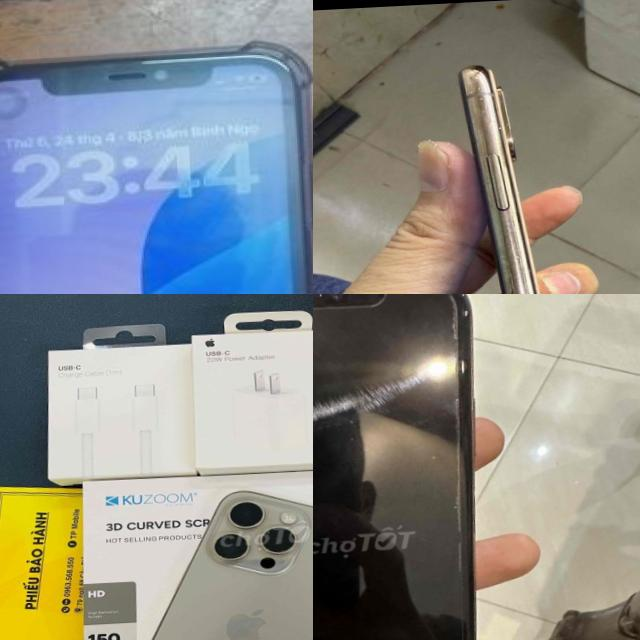gen_11: (0, 32, 313, 294)
gen_15: (92, 478, 313, 640)
gen_x_xs: (313, 294, 518, 640), (459, 66, 539, 294)
scratch: (503, 245, 527, 268), (469, 77, 490, 103), (466, 95, 496, 107), (489, 122, 508, 134)
